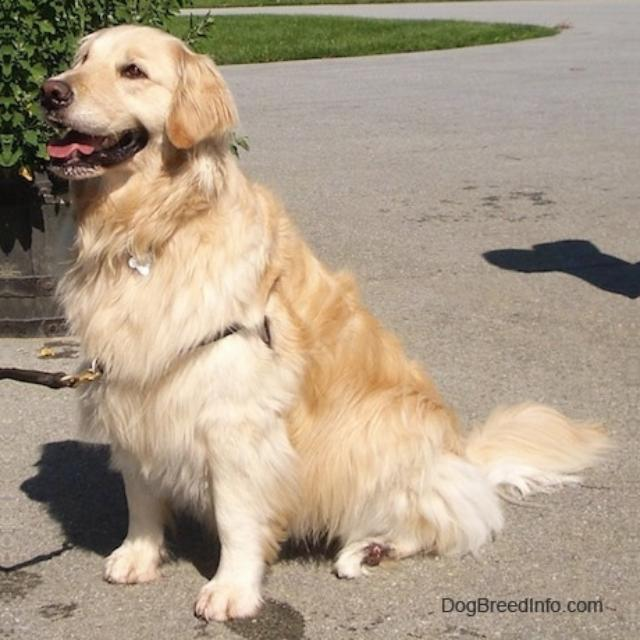dog: (24, 27, 594, 596)
